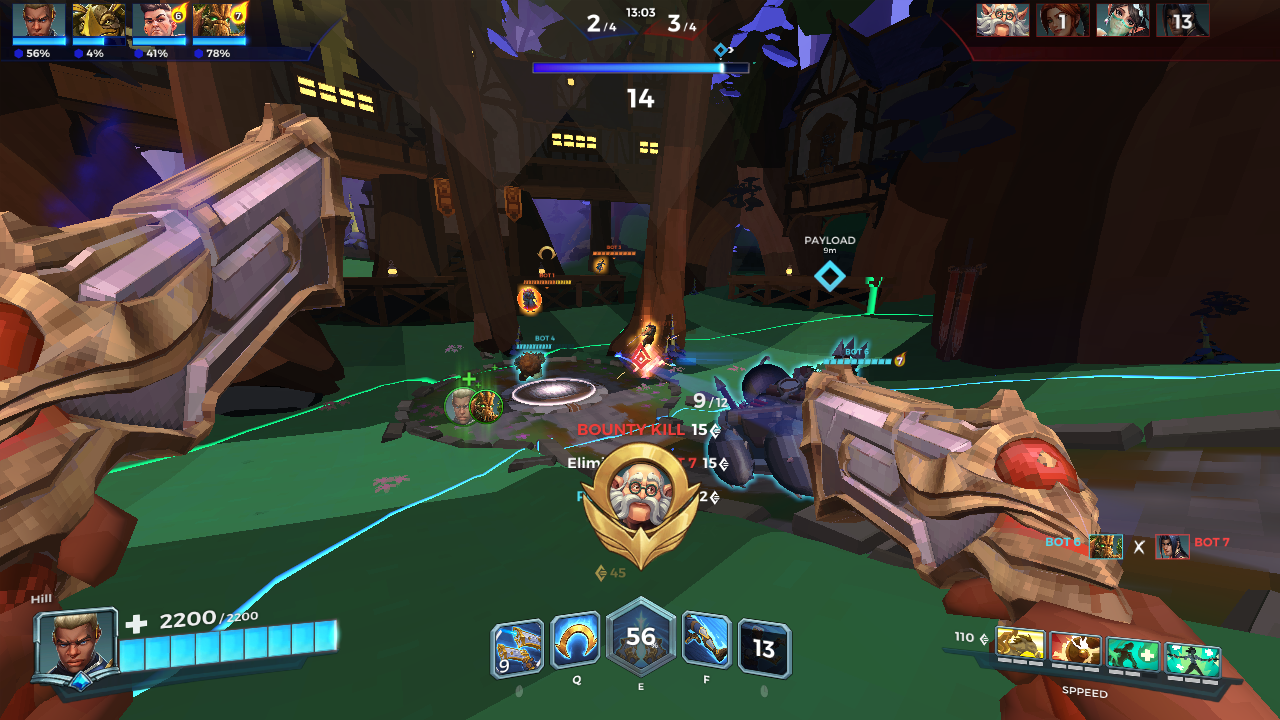model: (519, 288, 543, 317), (595, 256, 606, 279)
